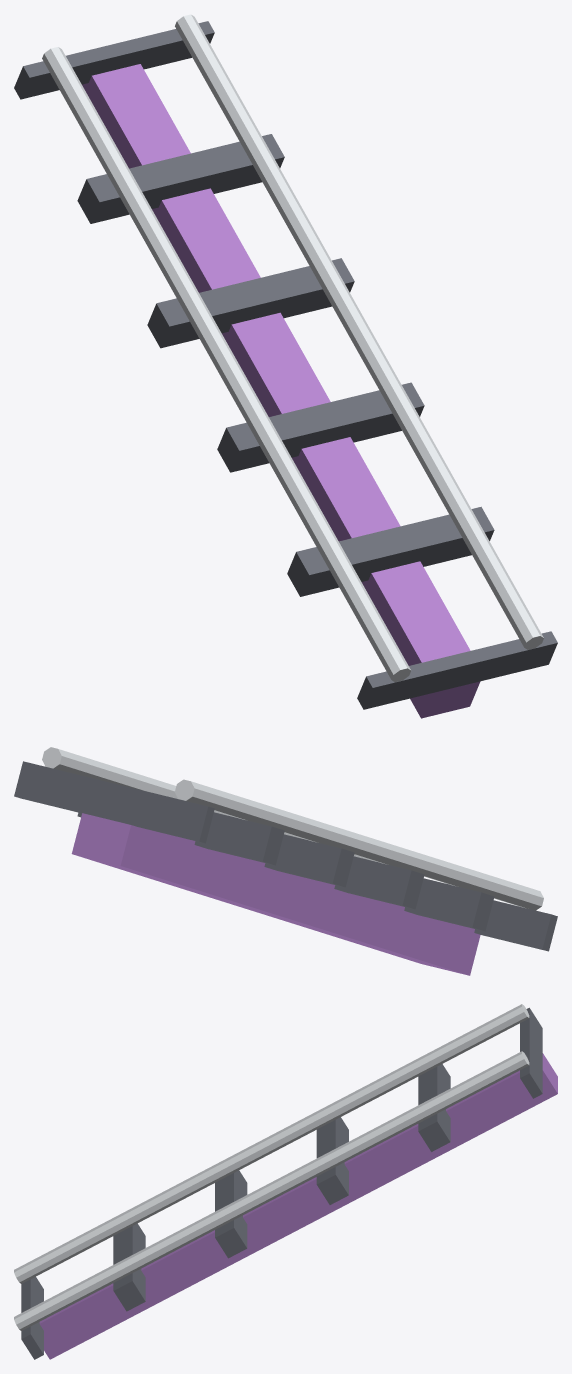
Rendered from theme-park-rides-and-coasters-theme-park-rides-and-coa-d69a24de__28623.glb.
3 views of the same model, one above another, from view 1: azimuth 30°, elevation 25°; view 2: azimuth 150°, elevation 25°; view 3: azimuth 270°, elevation 25° (orthographic). The views are drawn at different scales.
Visible parts, largest first — view 1: theme-park-rides-and-coasters-track-slope-30-down; view 2: theme-park-rides-and-coasters-track-slope-30-down; view 3: theme-park-rides-and-coasters-track-slope-30-down.
Part boxes in pixels (x1,y1,x2,y2): theme-park-rides-and-coasters-track-slope-30-down: (14, 14, 557, 718); theme-park-rides-and-coasters-track-slope-30-down: (14, 747, 557, 975); theme-park-rides-and-coasters-track-slope-30-down: (14, 1004, 557, 1359).
Size of the model in its own units: 1.06 by 2.43 by 3.71.
